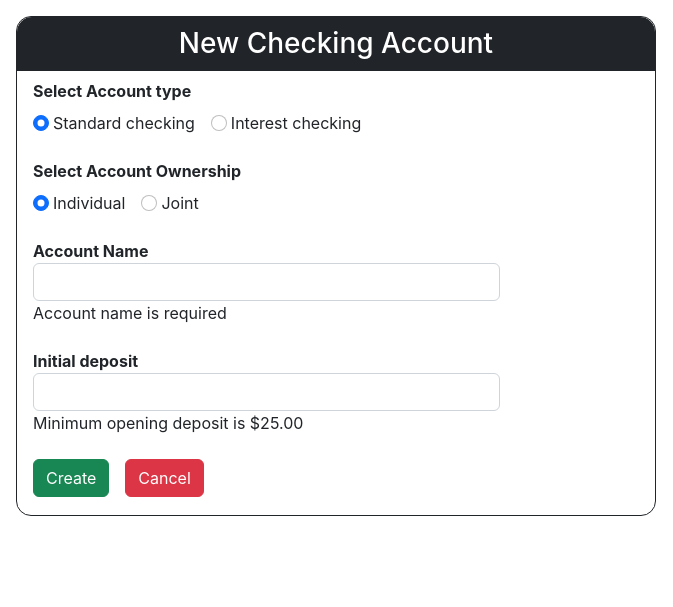
Test case: Should create the checking account with the given info
This screenshot has width=673, height=607.
Type "testing" into the field with test id "account-name" at (266,282), box left=33, top=263, right=500, bottom=301
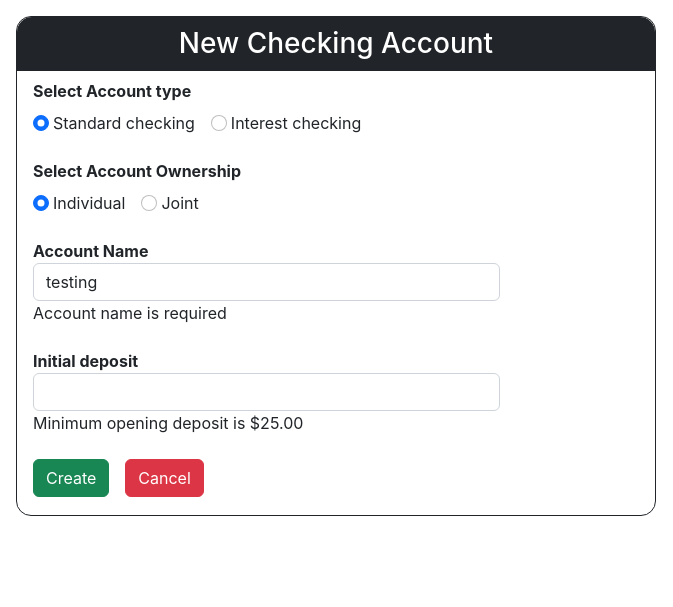
Type "1200" into the field with test id "initial-deposit" at (266,392), box left=33, top=373, right=500, bottom=411
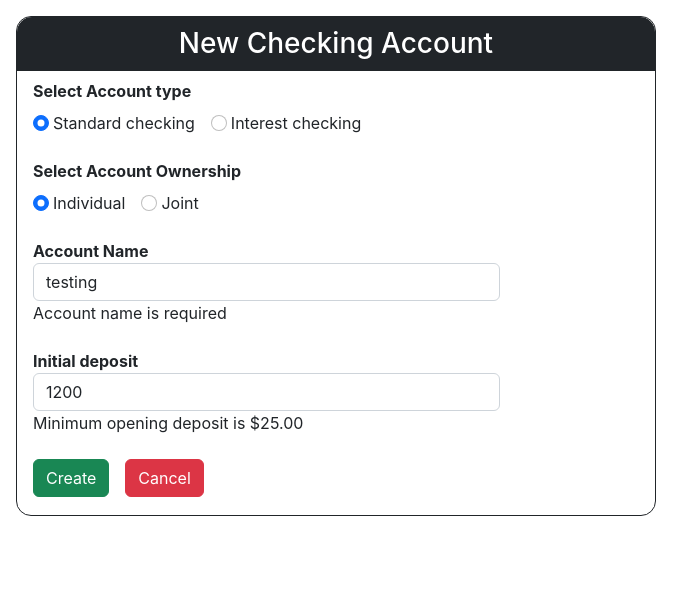
Click the button with test id "submit" at (71,478), box left=33, top=459, right=109, bottom=497
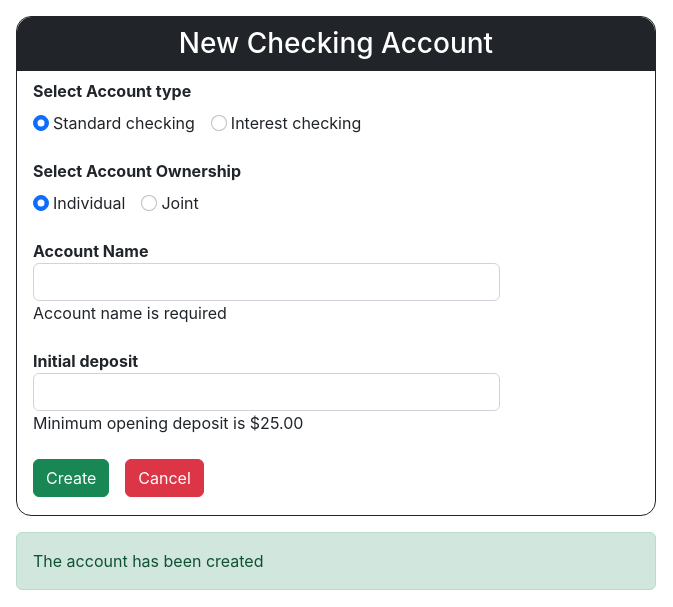
Expected: the text "The account has been created" is shown, left=16, top=532, right=656, bottom=590
